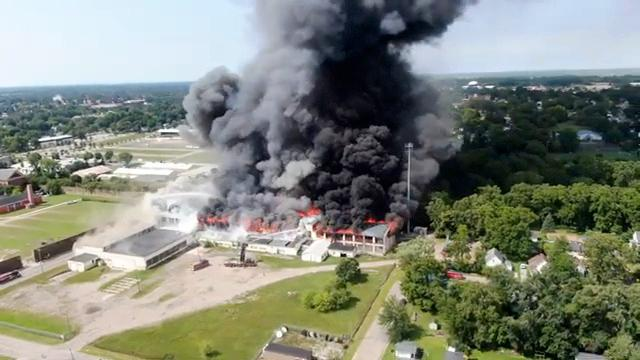smoke: (242, 0, 342, 181), (319, 1, 416, 123), (309, 121, 394, 178), (183, 67, 242, 139), (218, 186, 310, 220), (349, 180, 381, 226), (395, 176, 421, 224)
